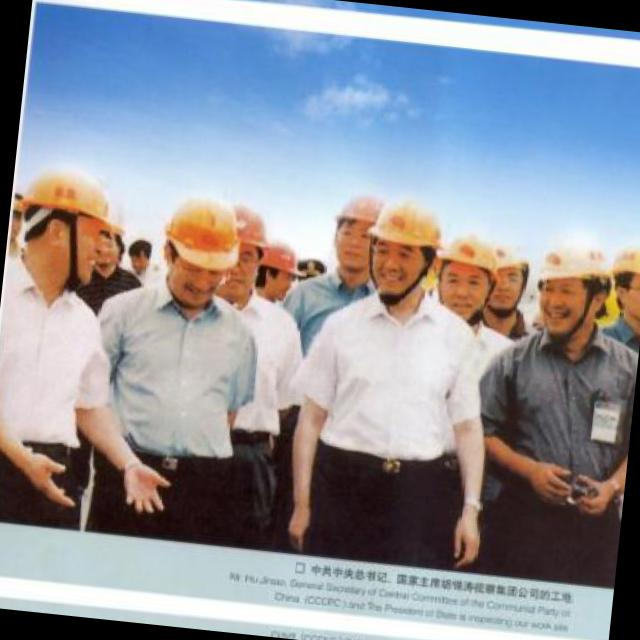helmet: (12, 148, 125, 298), (148, 182, 242, 306), (526, 232, 615, 348), (361, 188, 444, 298), (430, 222, 504, 324), (320, 180, 390, 286), (481, 234, 534, 322), (225, 212, 268, 295), (254, 242, 303, 309), (610, 235, 640, 339)
